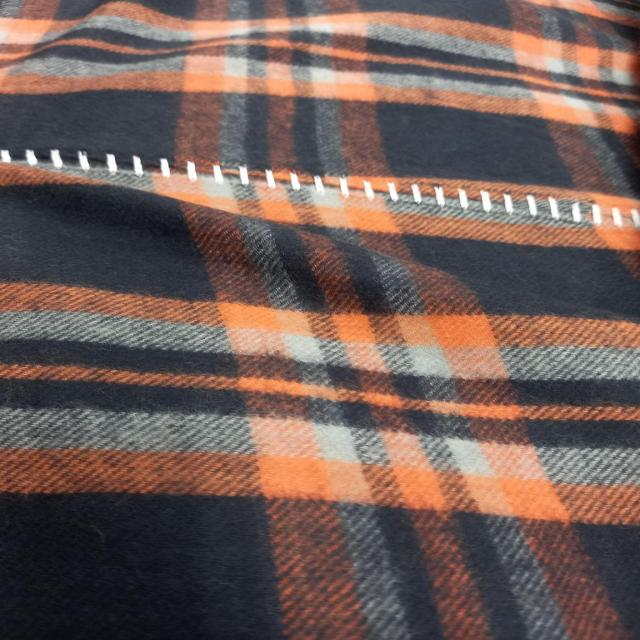gray stitch: (4, 145, 640, 225)
